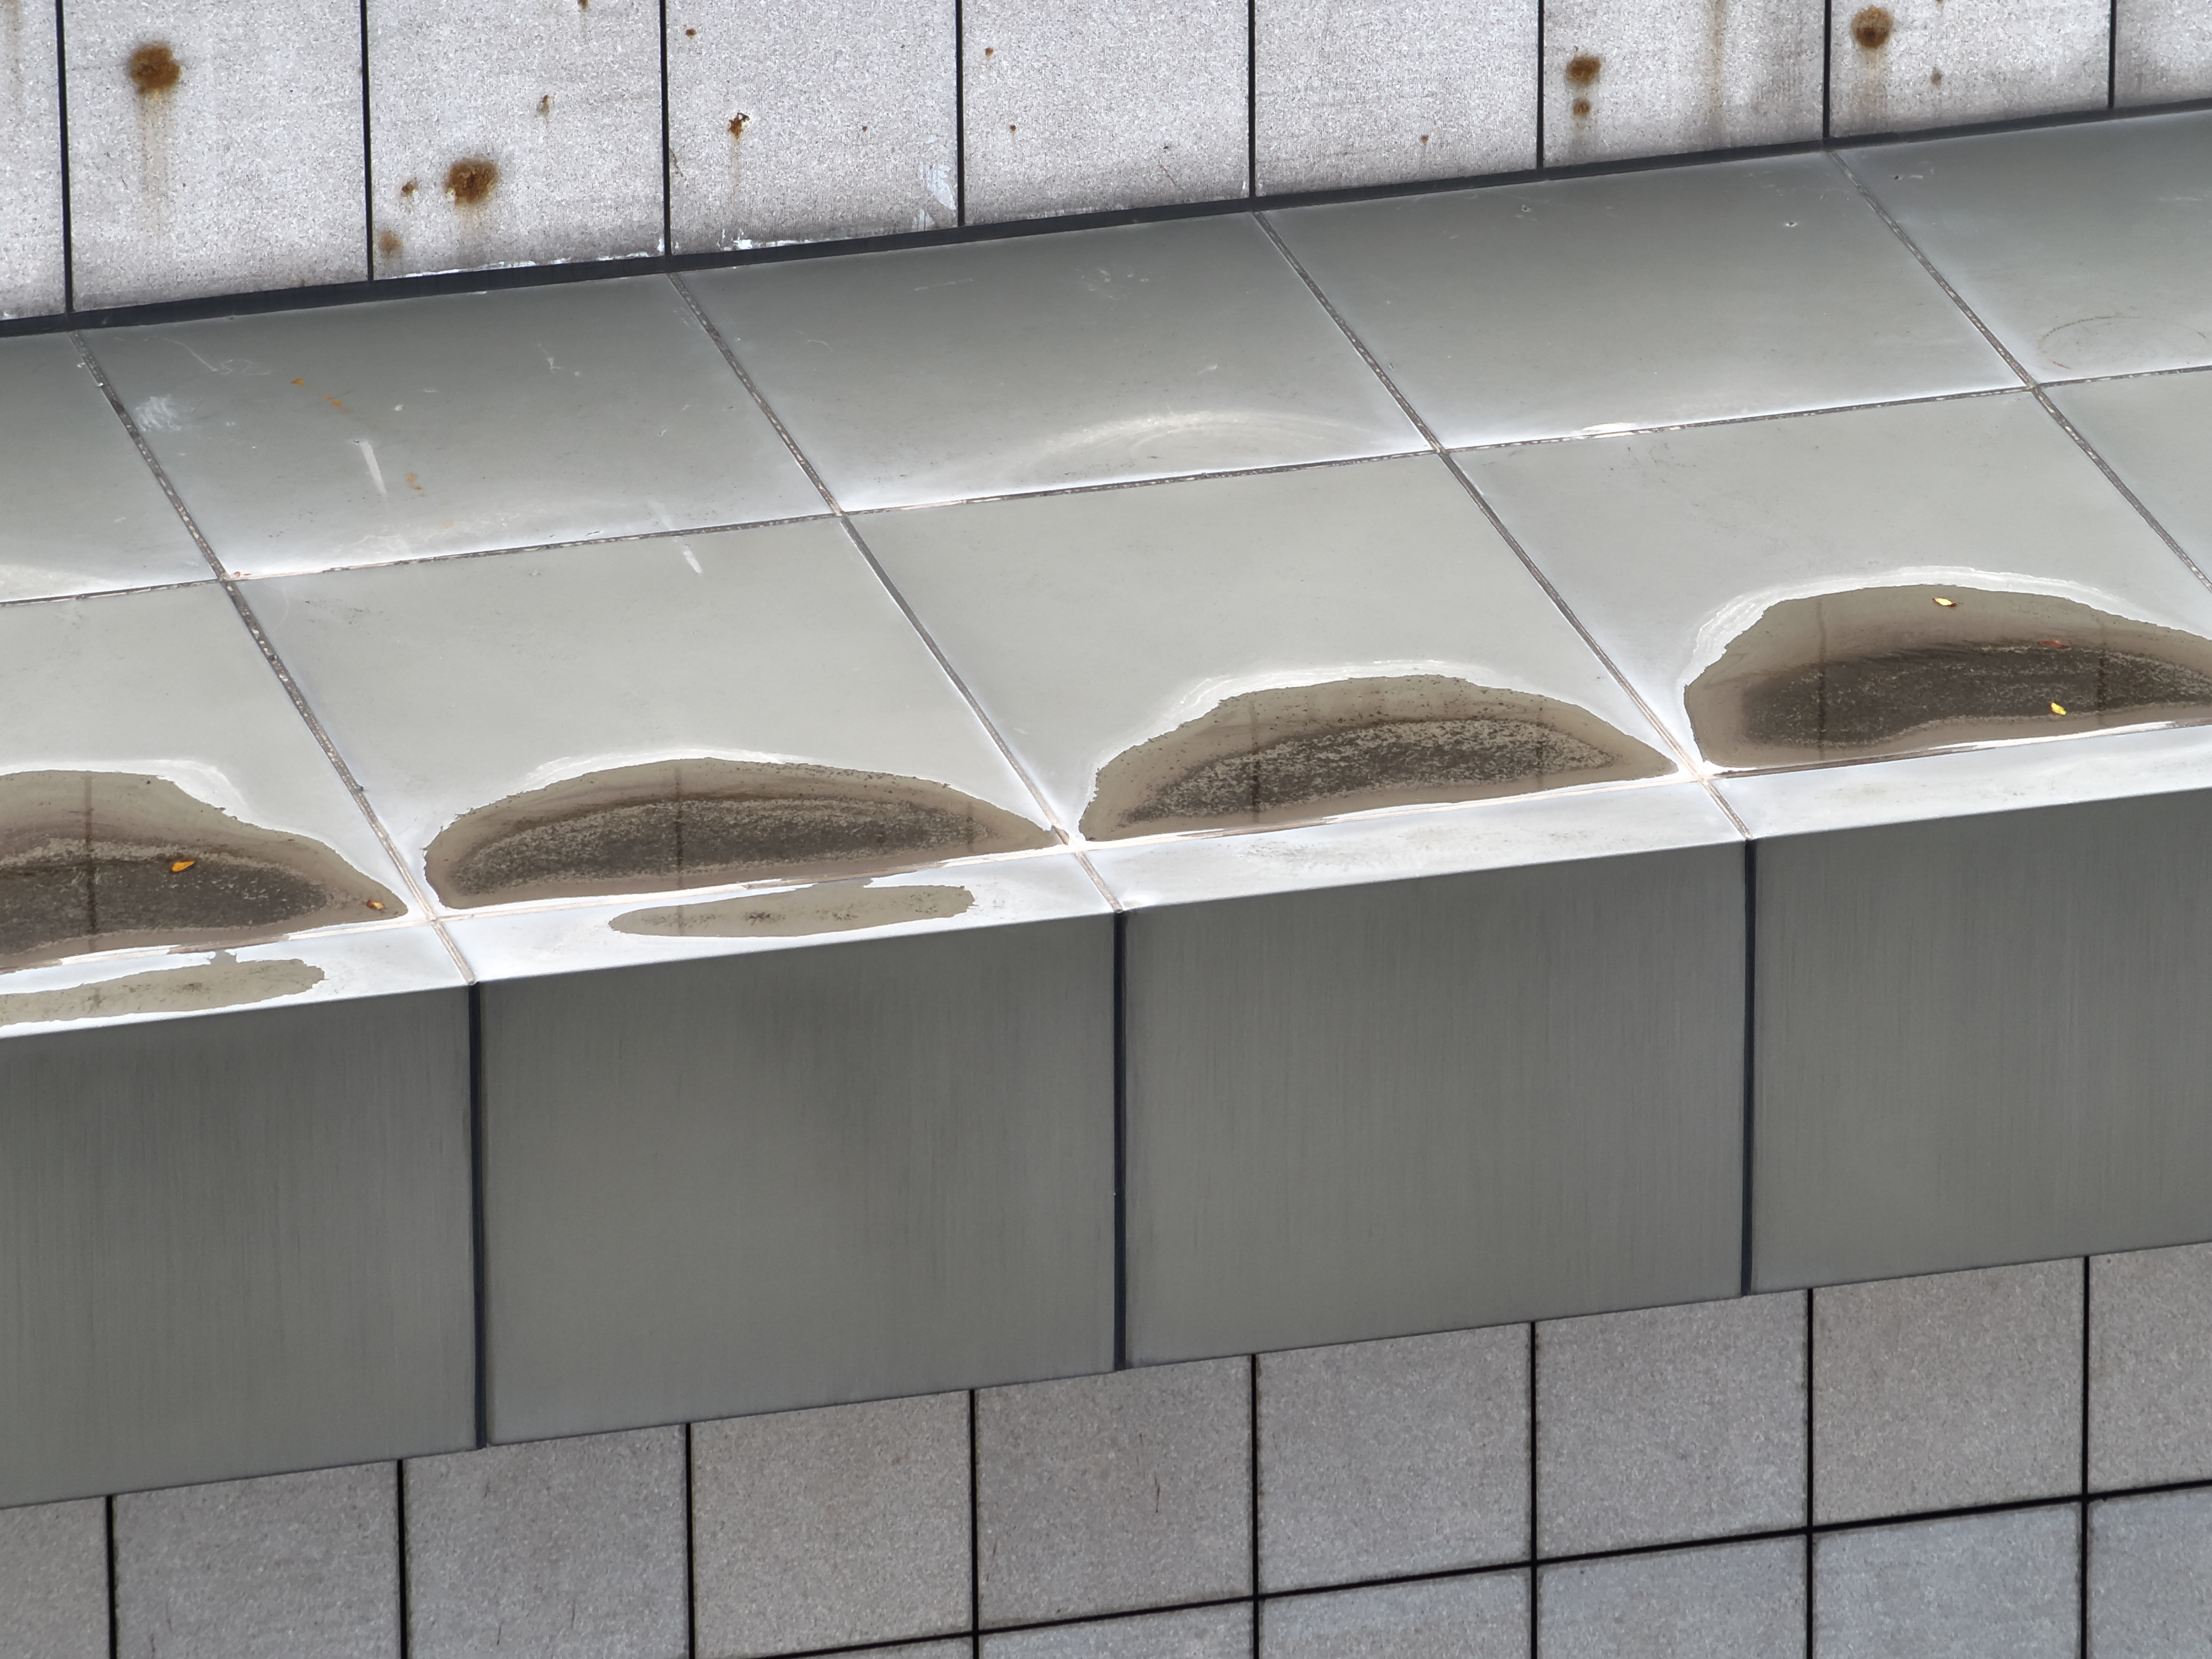spalling: (385, 240, 674, 281), (920, 162, 954, 211), (726, 235, 820, 251), (909, 209, 935, 230)
spot: (120, 44, 176, 87), (442, 159, 496, 197), (1848, 7, 1893, 49), (1564, 54, 1595, 91), (669, 148, 686, 178), (374, 230, 395, 254), (726, 113, 747, 136), (1926, 68, 1946, 87), (392, 178, 413, 195), (681, 24, 698, 40), (1575, 99, 1590, 115), (540, 94, 549, 113), (575, 2, 587, 14), (984, 49, 993, 56), (1008, 120, 1015, 129), (1420, 136, 1428, 143)
